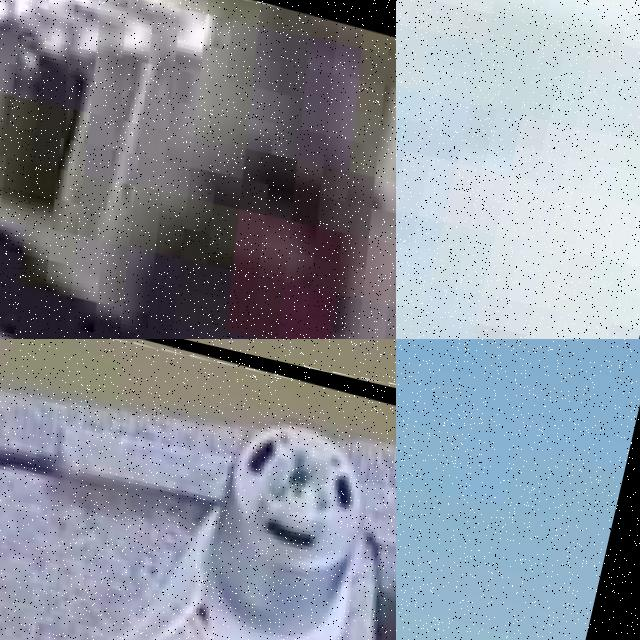drone: (0, 0, 396, 339), (0, 339, 396, 640)
